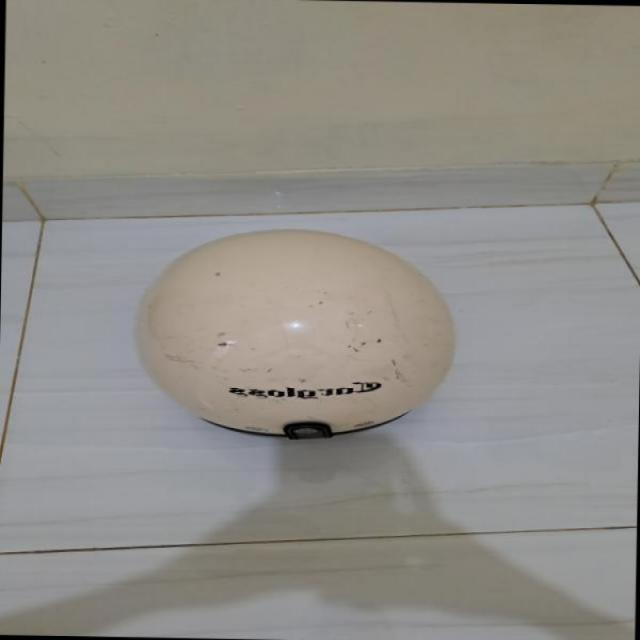Helmet: (129, 200, 488, 451)
